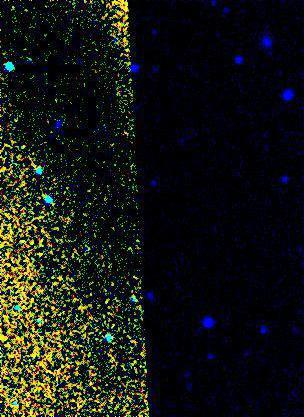star: (0, 322, 18, 352)
